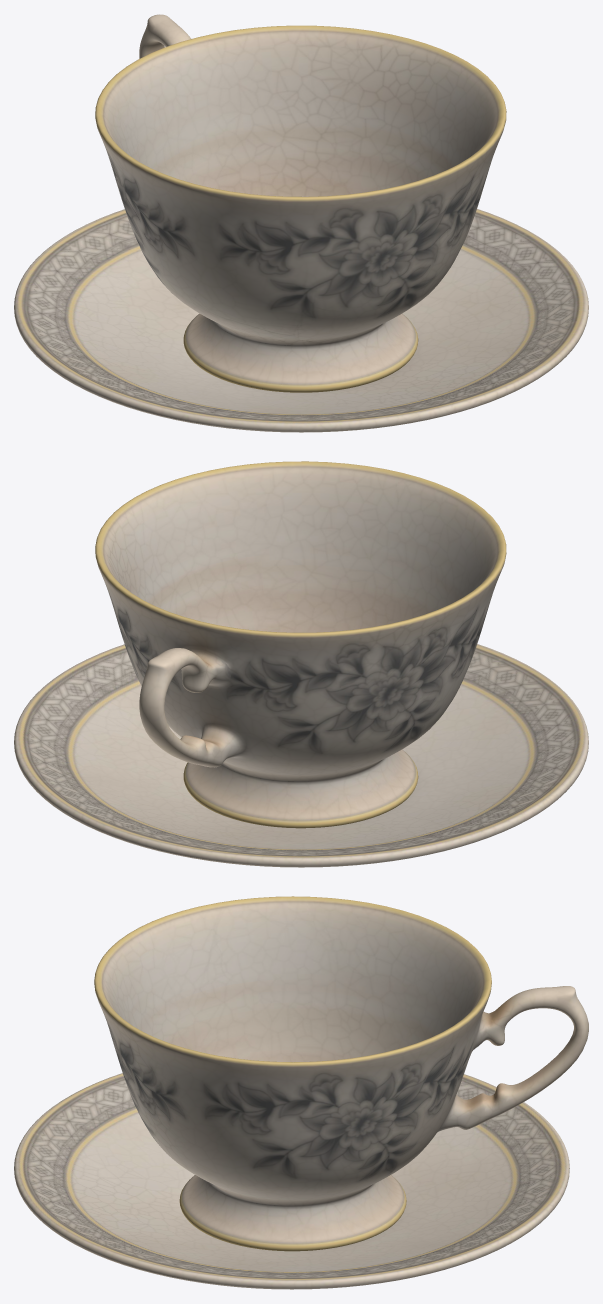
The model's file is DiffuseTransmissionTeacup.glb.
3 renders of one model, top to bottom at view 1: azimuth 30°, elevation 25°; view 2: azimuth 150°, elevation 25°; view 3: azimuth 270°, elevation 25°, orthographic. The views are drawn at different scales.
Visible parts, largest first — view 1: tea_cup, tea_saucer; view 2: tea_cup, tea_saucer; view 3: tea_cup, tea_saucer.
Part boxes in pixels (bbox=[...]): tea_cup: bbox=[95, 14, 506, 392]; tea_saucer: bbox=[14, 209, 588, 432]; tea_cup: bbox=[95, 461, 506, 828]; tea_saucer: bbox=[14, 644, 588, 867]; tea_cup: bbox=[94, 896, 588, 1251]; tea_saucer: bbox=[14, 1073, 569, 1289].
Size of the model in its own units: 0.1486 by 0.0704 by 0.1537.
2 materials, 2 textured.
